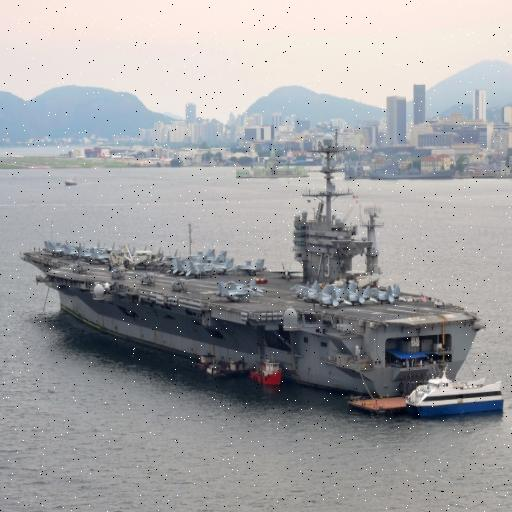Portanaves: (17, 123, 486, 407)
